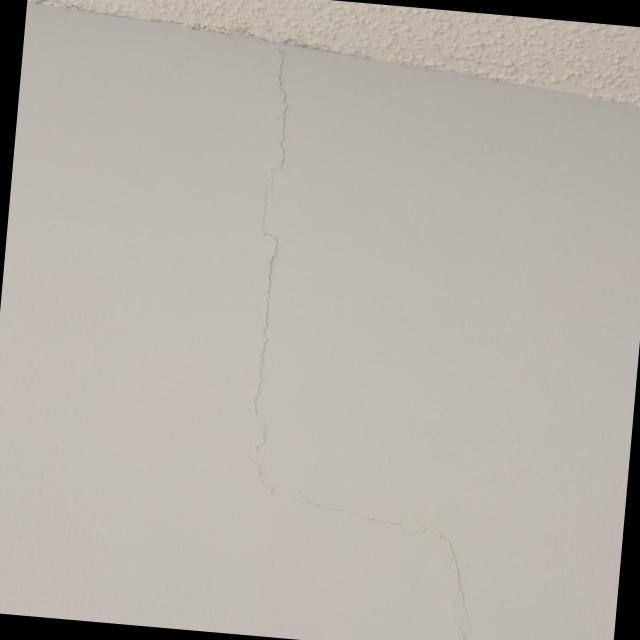crack: (247, 46, 472, 611)
